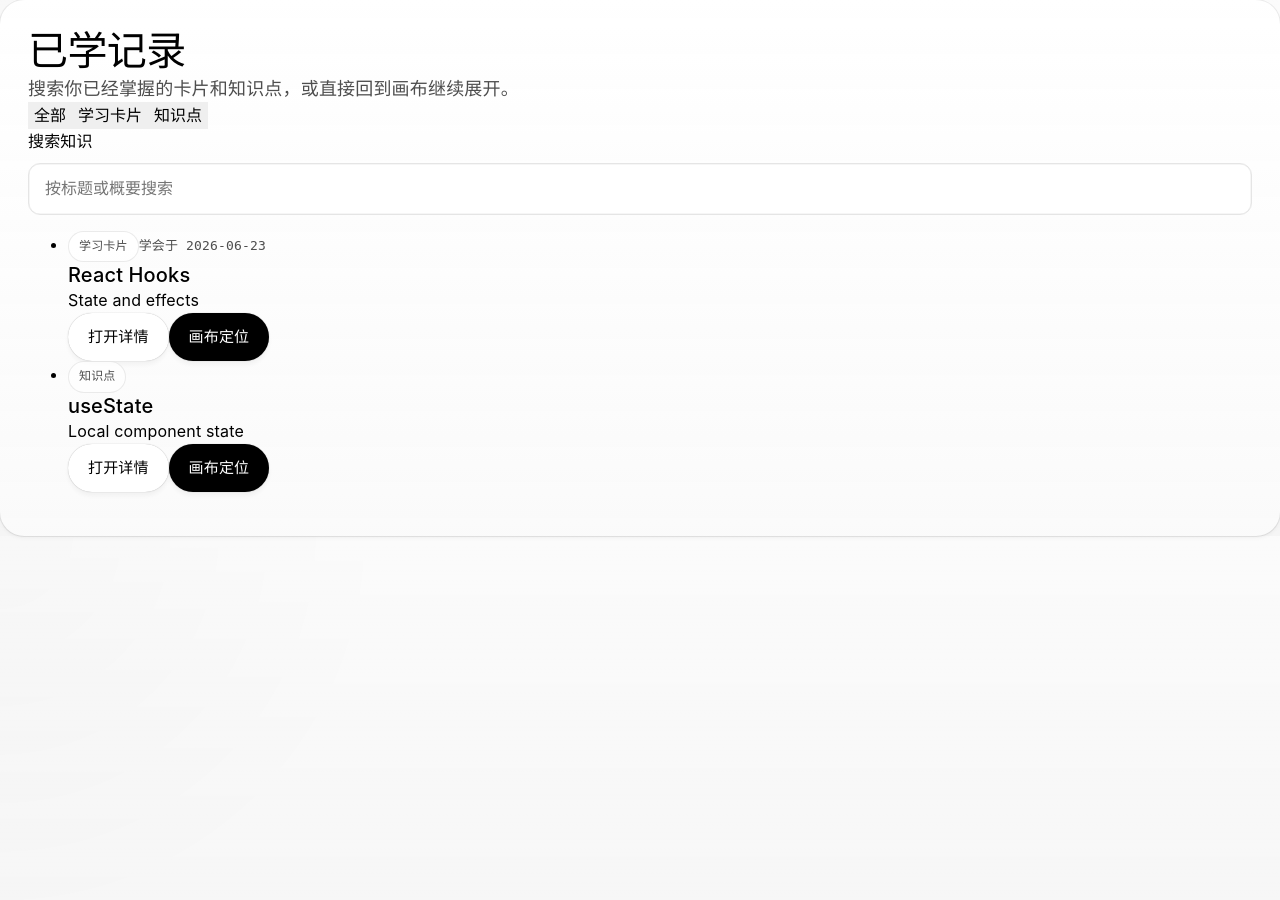
Scenario: KnowledgeList › filters records by type and query
Click the tab "知识点".
click(178, 116)  # box [148,102,208,129]
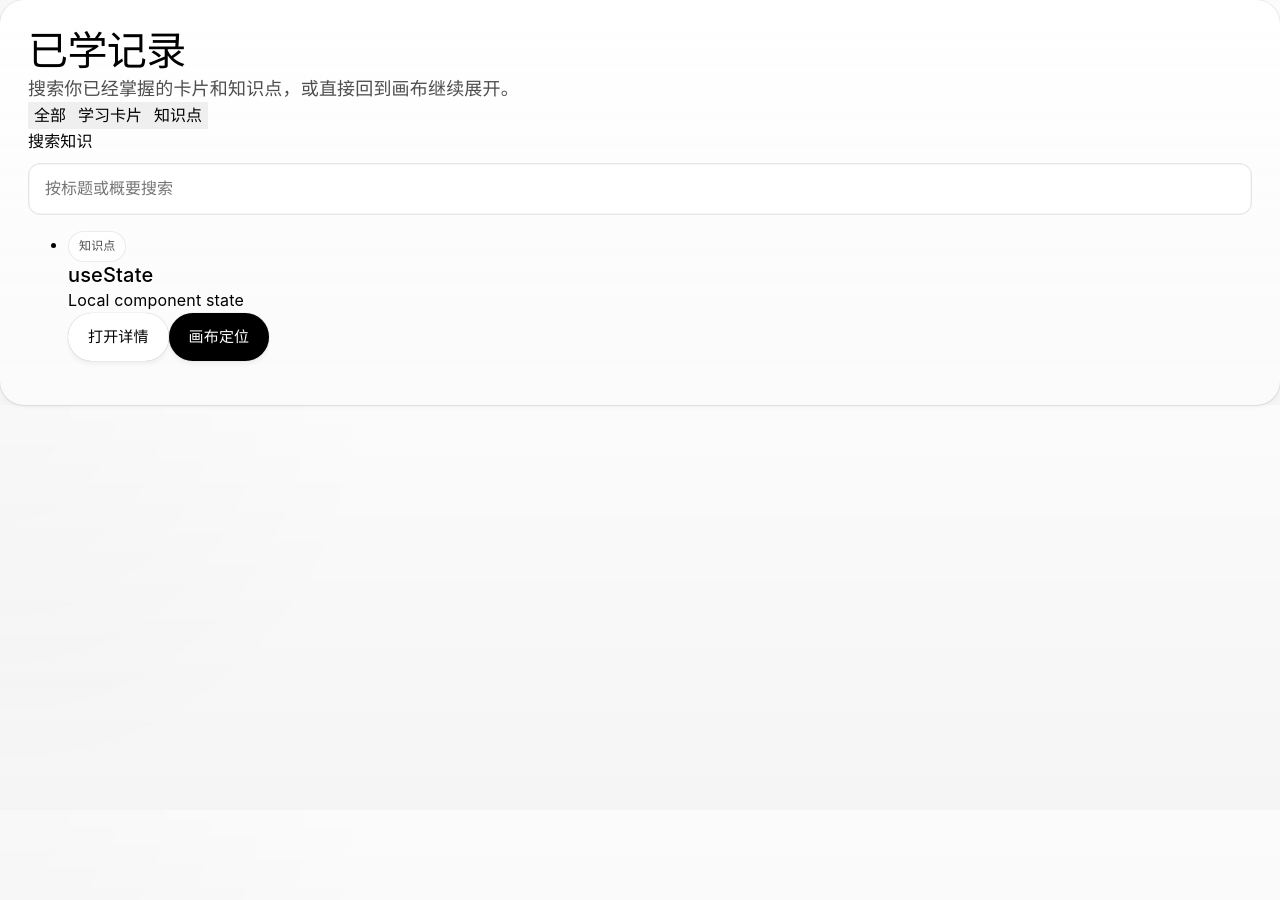
Expected: the heading "useState" is shown, [68,263,153,287]
Result: the heading "React Hooks" is gone
Type "missing" into the field with placeholder "按标题或概要搜索".
click(640, 189); type("missing")  # box [28,163,1252,215]
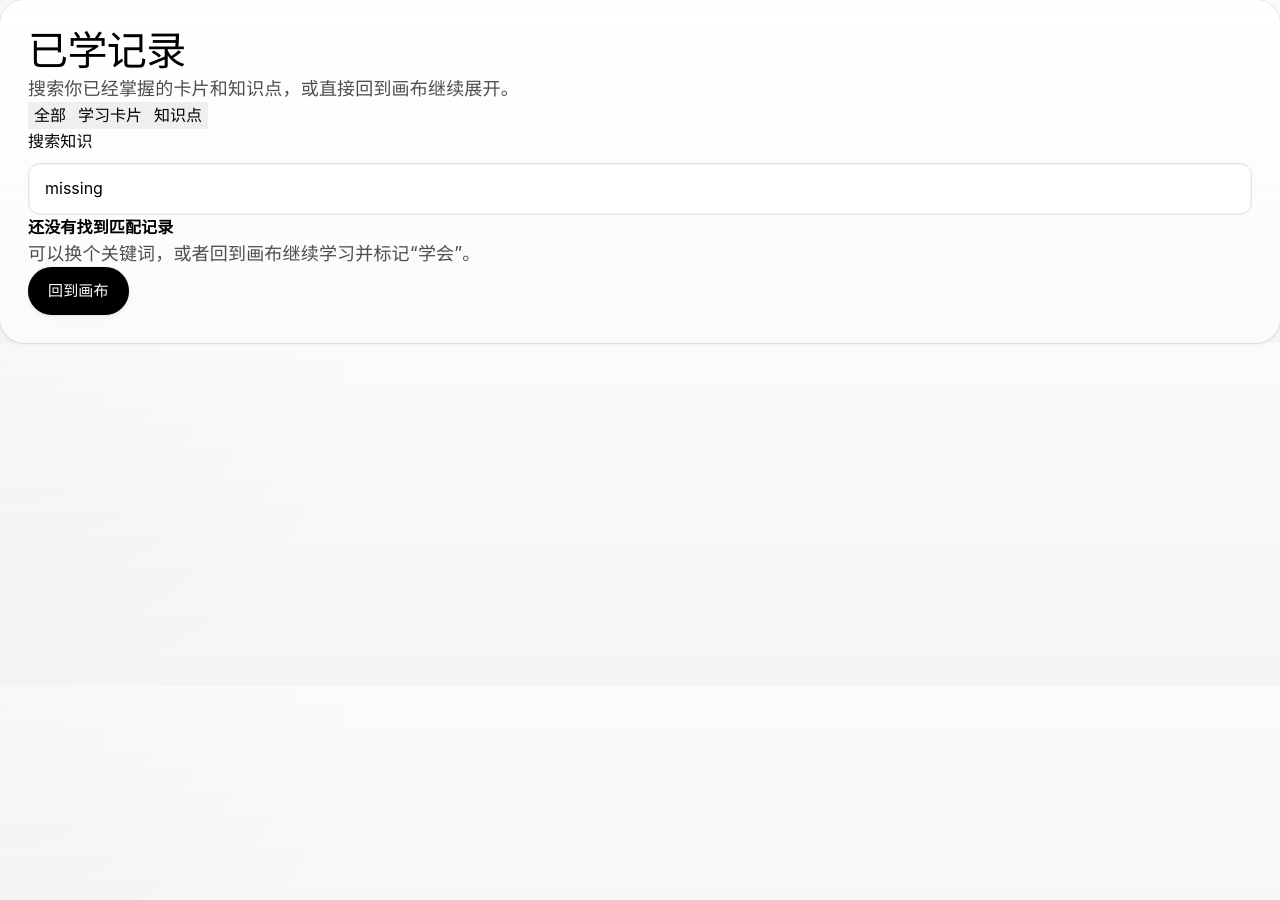
Result: the text "还没有找到匹配记录" is shown at [28,217,174,237]
